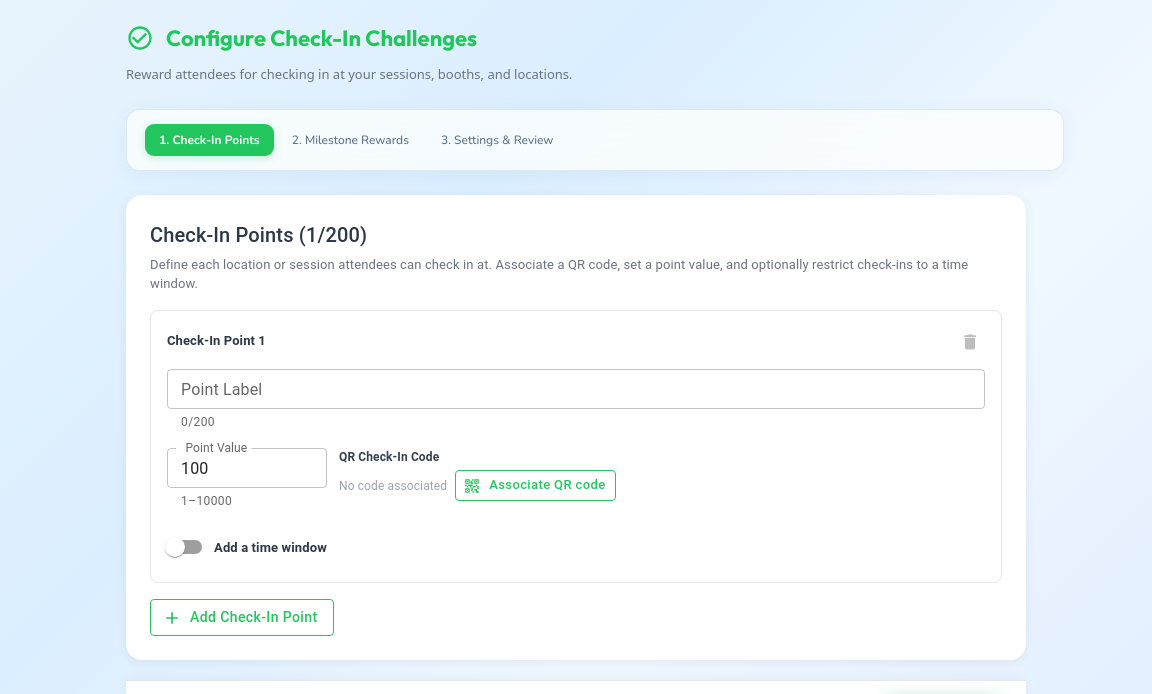
Test case: CheckInChallengeConfig › renders a leaderboard control on the settings step
Click the button "3. Settings & Review": (497, 140) [427,124,567,156]
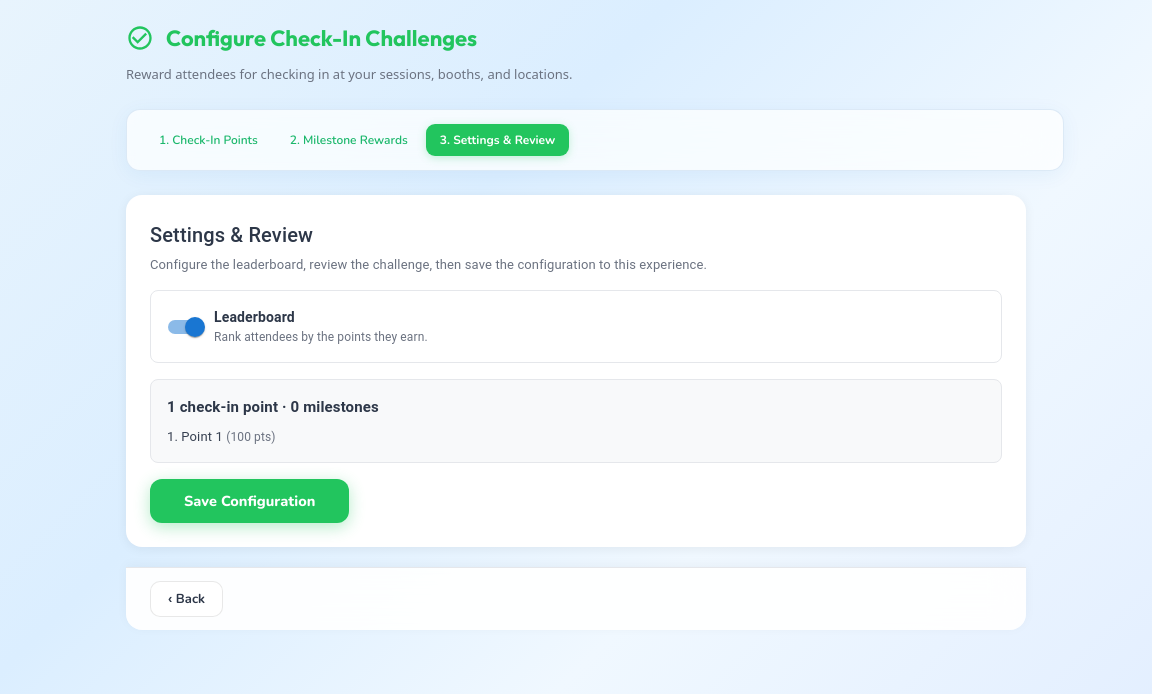
Expected: the checkbox named "Enable leaderboard" is shown, [156,307,428,346]
Expected: the button "Save Configuration" is shown, [150,479,349,523]
